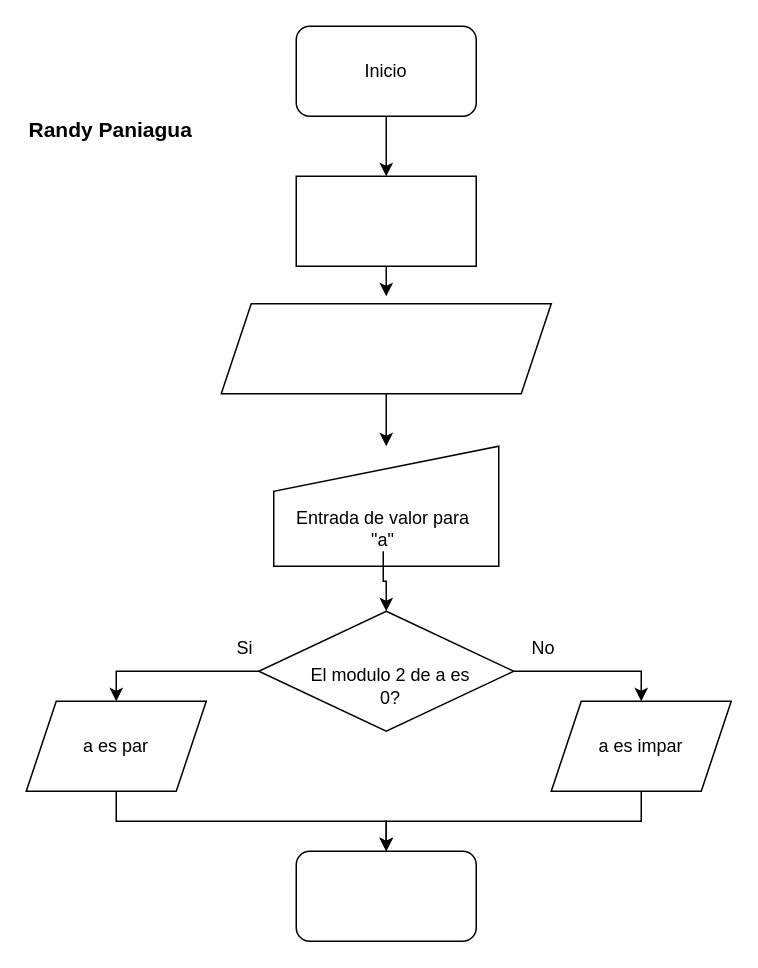
This 758x968 diagram has some shape labels left out. The shapes that lost their labels are listed below. From the top down, each one's centre as x and y in pixels, then its label:
point 385,220: declarar variable "a" como entero
point 385,348: Mostrar en pantalla "Introduzca un numero"
point 385,895: Fin
